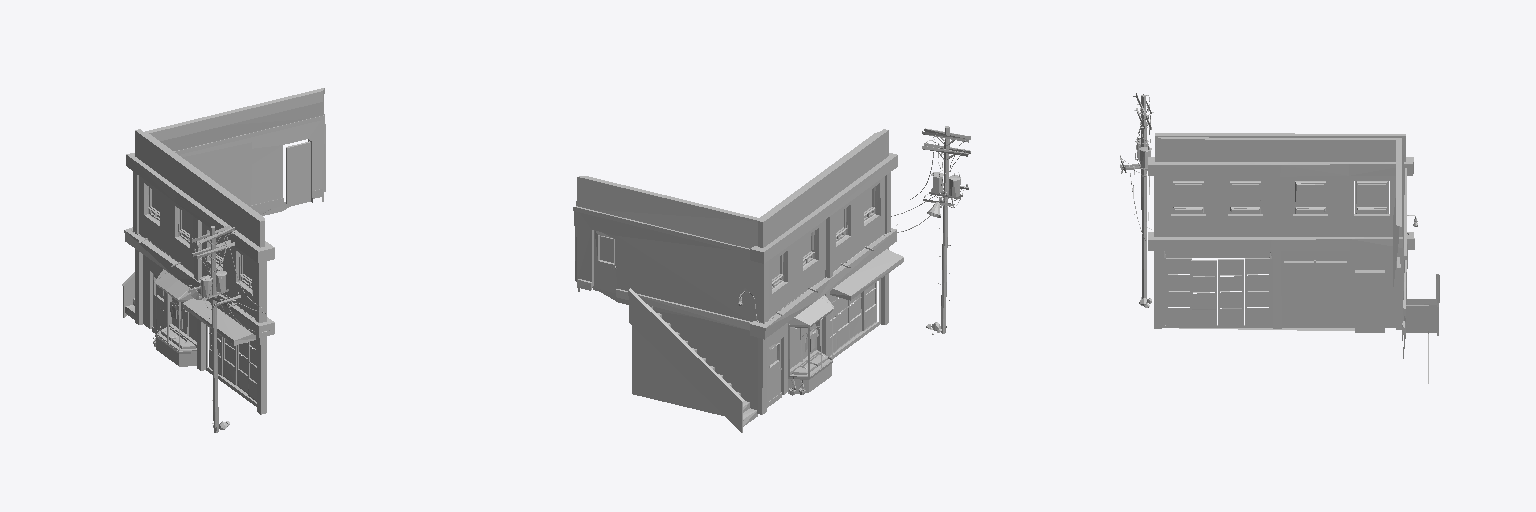
The model's file is building.obj.
The picture shows the model from 3 angles: view 1: azimuth 30°, elevation 25°; view 2: azimuth 150°, elevation 25°; view 3: azimuth 270°, elevation 25°; orthographic projection.
Parts seen in each view (by area): view 1: polySurface1361_Mesh.165; view 2: polySurface1361_Mesh.165; view 3: polySurface1361_Mesh.165.
Part boxes in pixels (x1,y1,x2,y2): polySurface1361_Mesh.165: (122,88,325,432); polySurface1361_Mesh.165: (573,126,970,432); polySurface1361_Mesh.165: (1120,93,1439,383).
Size of the model in its own units: 0.7674 by 0.5894 by 0.8065.